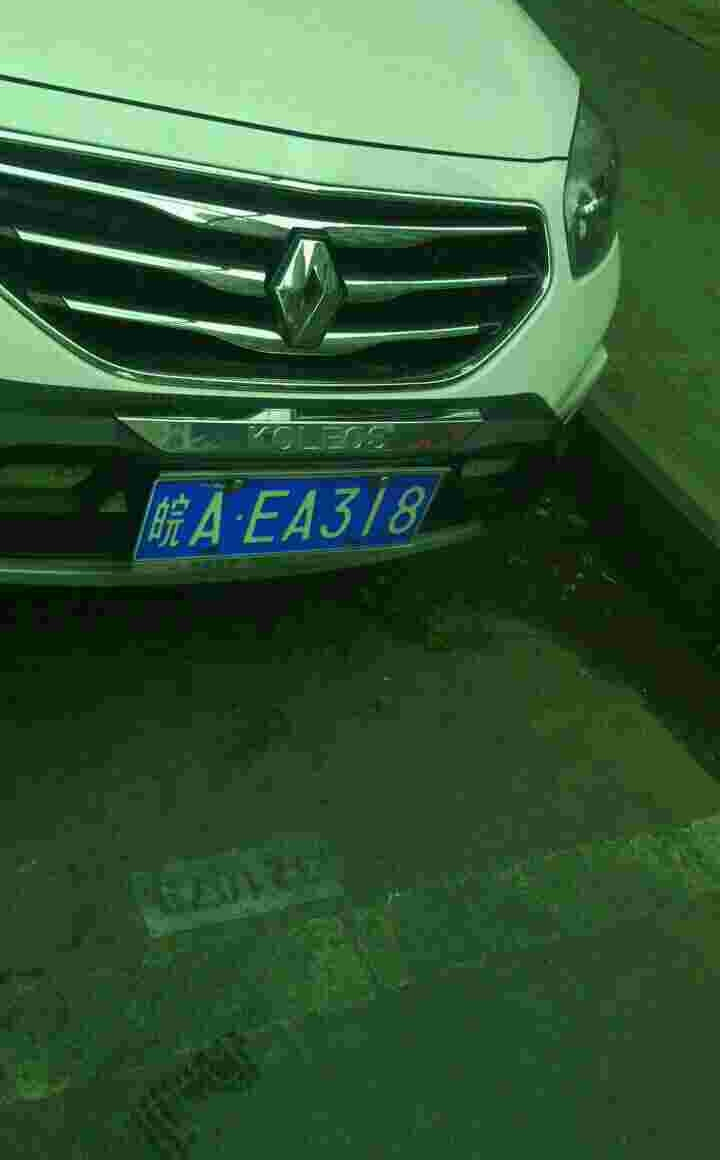plate: (141, 466, 453, 562)
